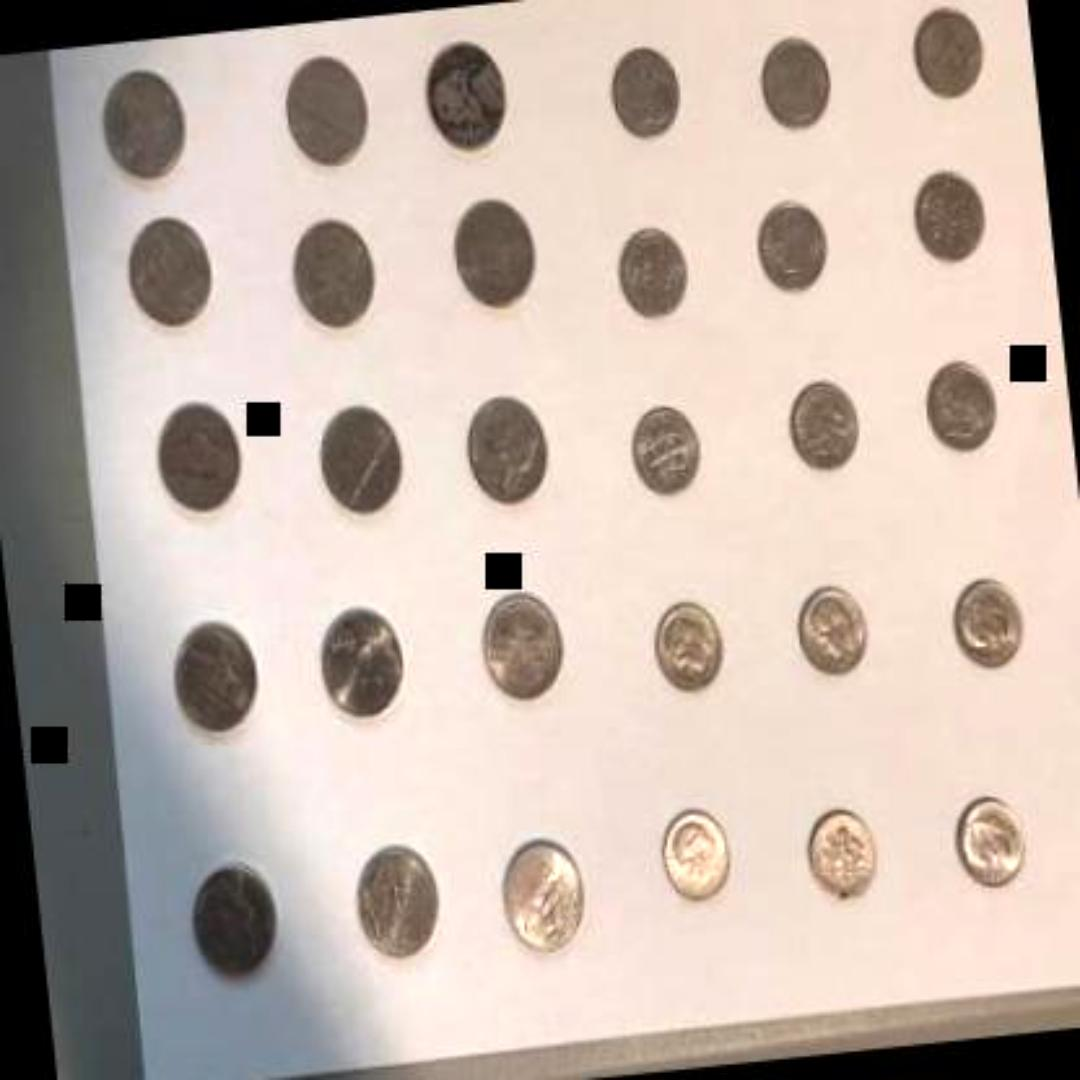Dime: (800, 798, 888, 910), (749, 23, 837, 134), (784, 366, 868, 476), (791, 572, 874, 683), (941, 566, 1029, 669), (915, 351, 1003, 454), (949, 784, 1037, 887), (606, 218, 694, 320), (604, 35, 688, 141), (652, 799, 735, 902), (904, 160, 986, 264), (906, 1, 990, 101), (647, 595, 724, 696), (756, 190, 832, 292), (630, 400, 704, 496)
Nickel: (494, 818, 596, 956), (182, 849, 286, 976), (276, 46, 378, 174), (310, 595, 412, 722), (96, 55, 194, 187), (458, 380, 559, 506), (283, 210, 381, 338), (348, 836, 446, 964), (120, 210, 218, 338), (312, 395, 413, 519), (151, 395, 249, 519), (165, 614, 263, 738), (446, 188, 540, 310), (472, 587, 570, 703), (417, 37, 513, 153)
